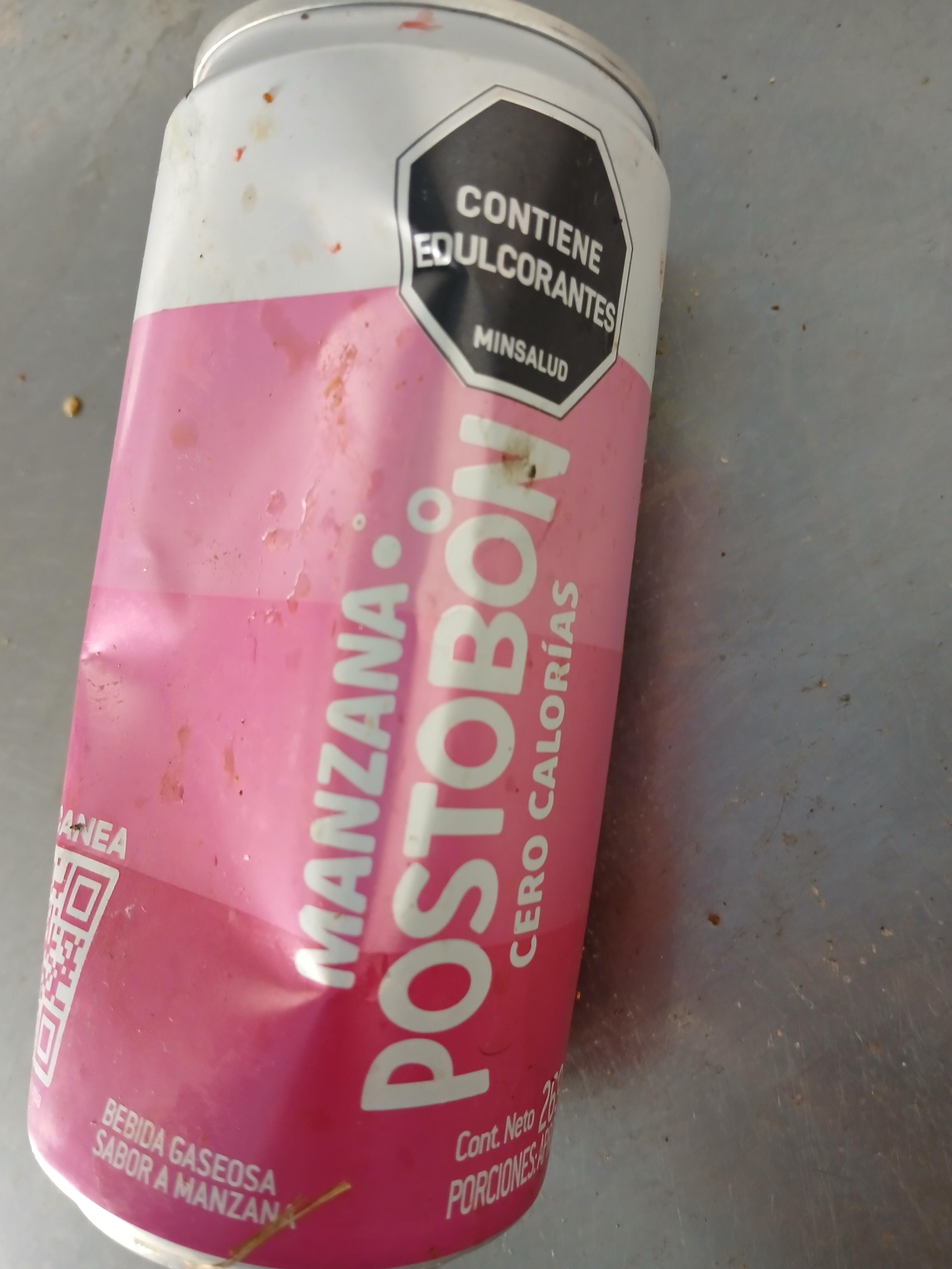Metal: (27, 4, 669, 1267)
